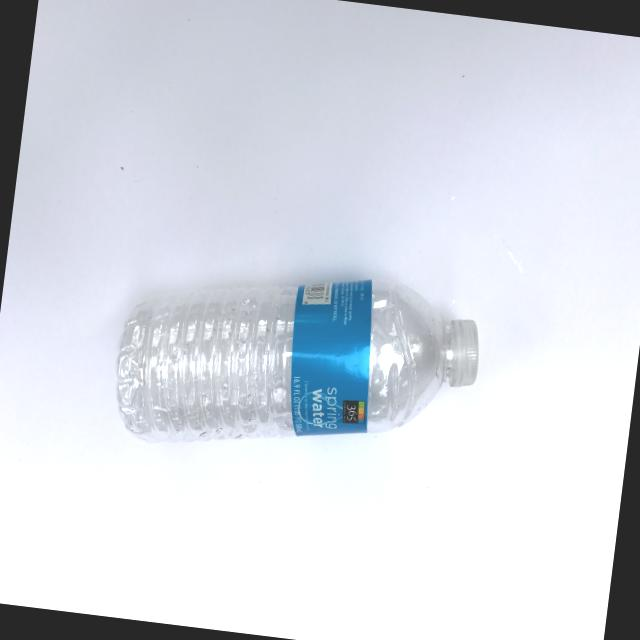Plastic: (80, 183, 517, 547)
